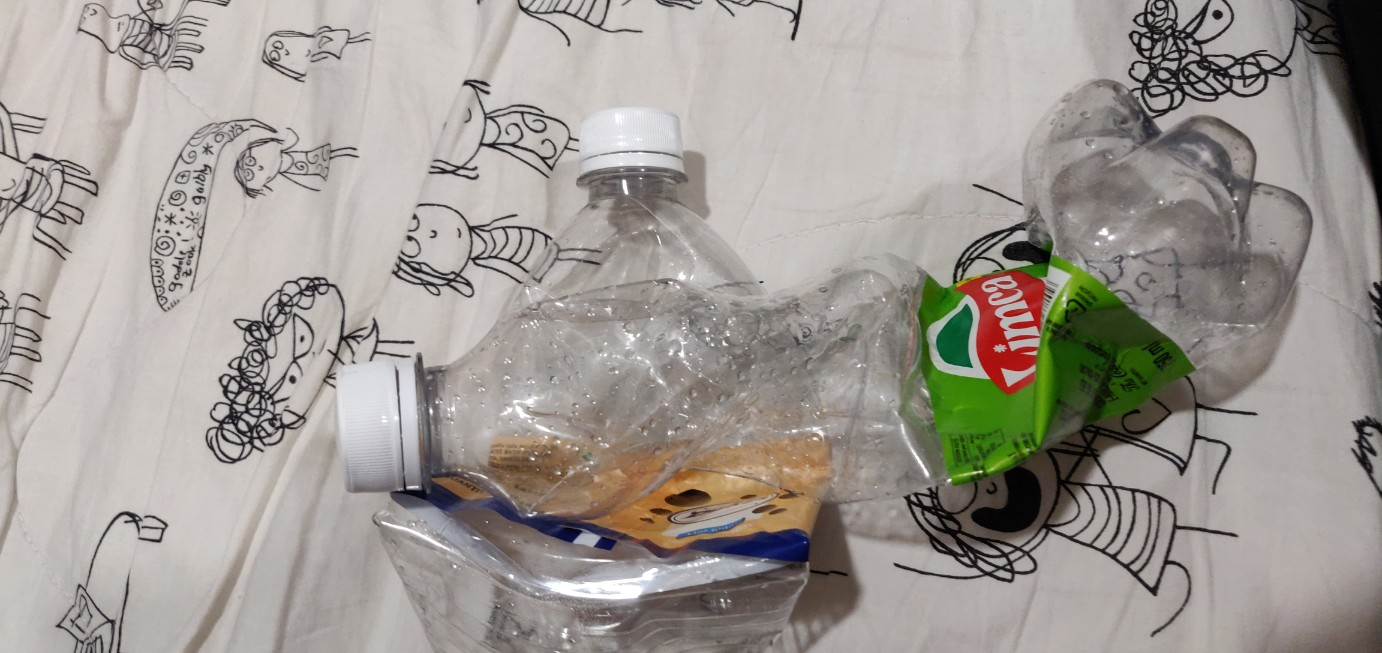Electronics: (301, 69, 1327, 572), (451, 88, 894, 653)
